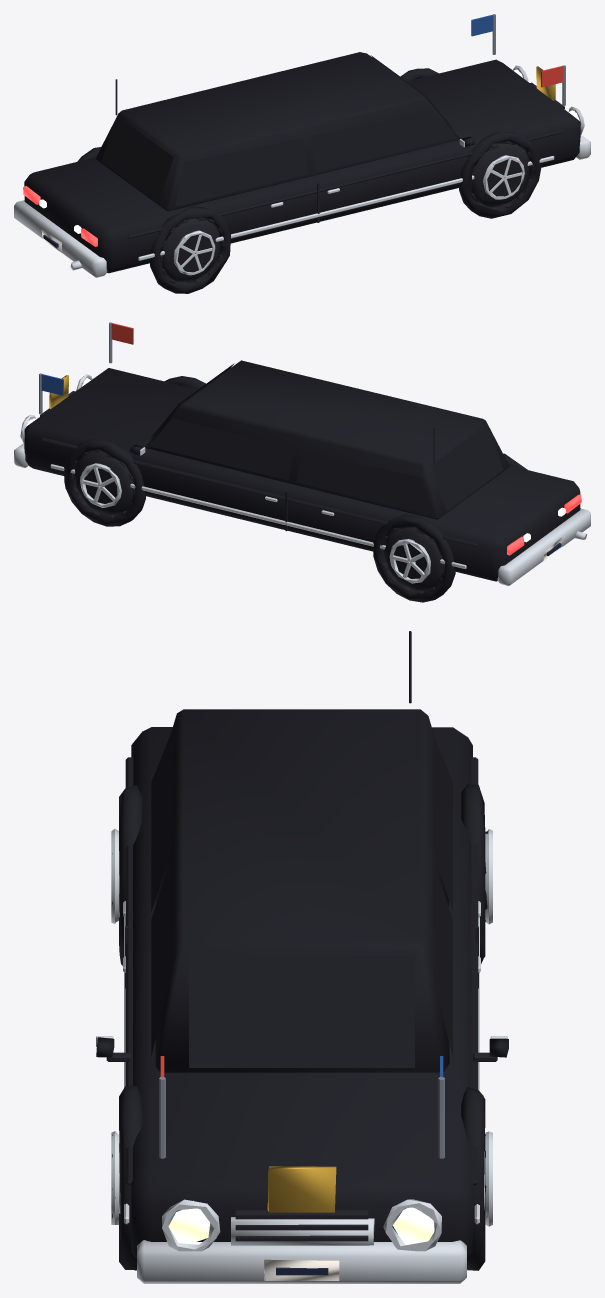
The model's file is mayor_limo.glb.
3 renders of one model, top to bottom at view 1: azimuth 30°, elevation 25°; view 2: azimuth 150°, elevation 25°; view 3: azimuth 270°, elevation 25°, orthographic. The views are drawn at different scales.
Parts seen in each view (by area): view 1: mayor_limo; view 2: mayor_limo; view 3: mayor_limo.
Boxes of the visible parts, left/top/right/bottom form: mayor_limo: left=14, top=14, right=590, bottom=293; mayor_limo: left=14, top=322, right=590, bottom=602; mayor_limo: left=96, top=631, right=508, bottom=1283.
Bounding box in the file's own units: 6.74 × 2.06 × 2.36.
Materials: 1 (1 with a texture image).
